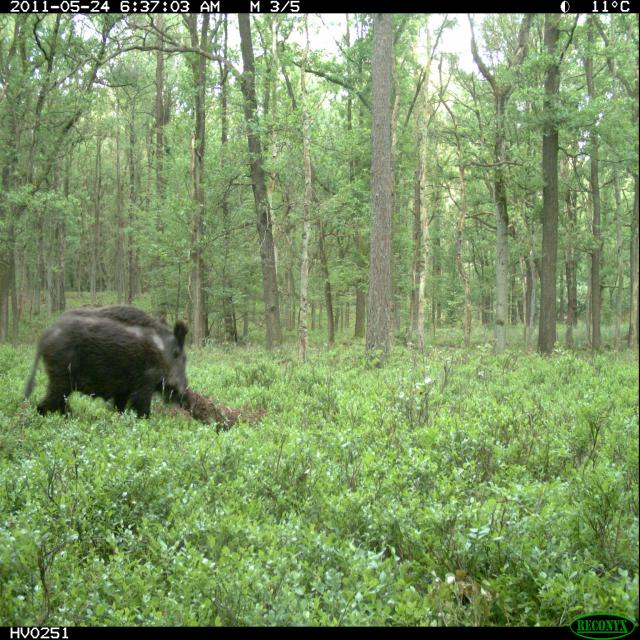boar: (13, 278, 223, 460)
